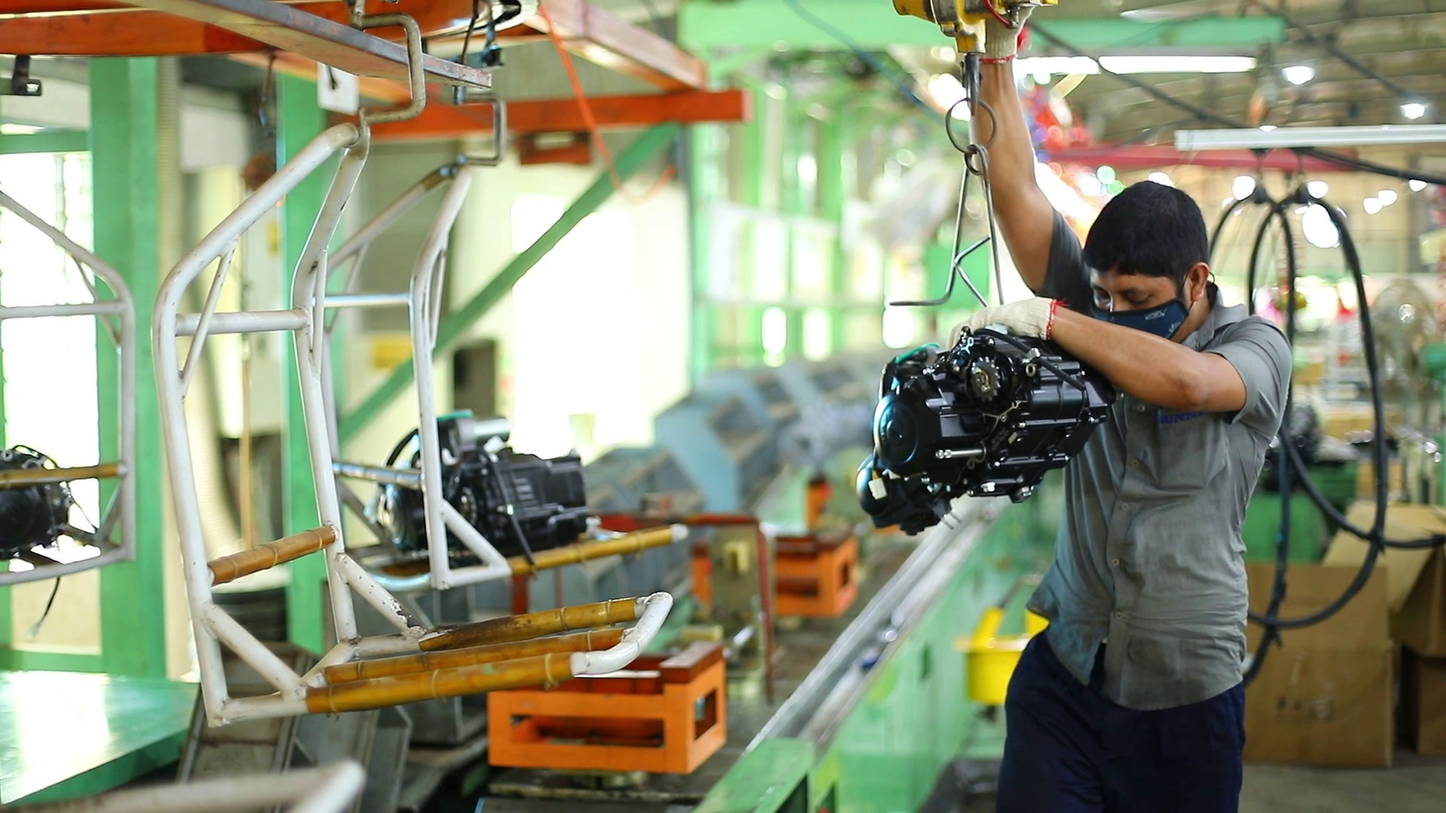mask: (1091, 297, 1191, 340)
person: (950, 1, 1293, 801)
